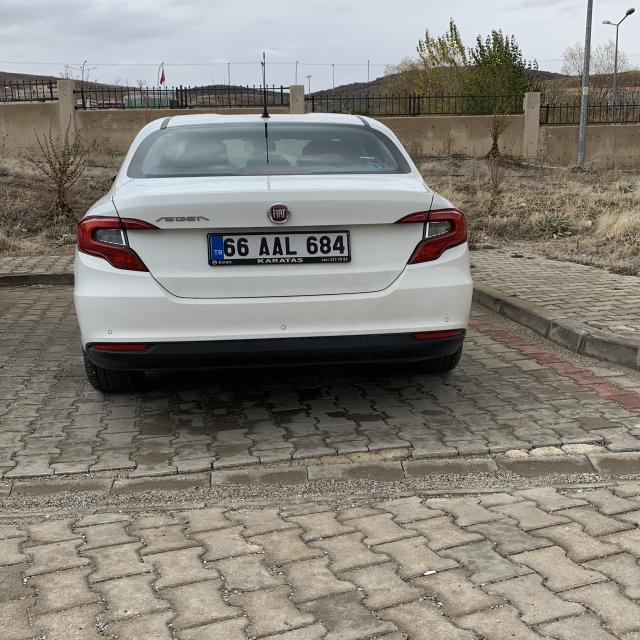license_plate: (208, 233, 348, 259)
